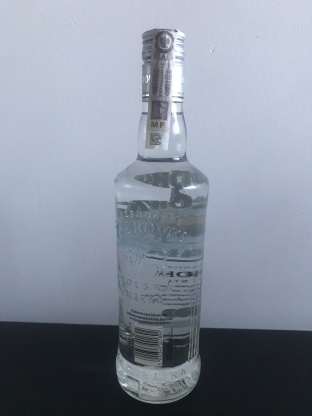nakretka: (138, 24, 187, 107)
